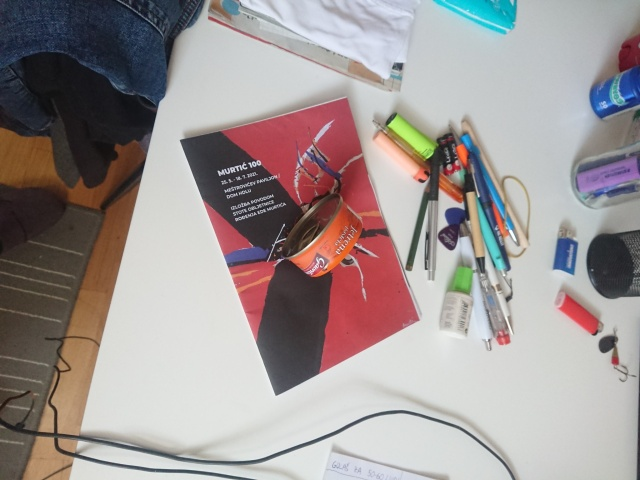Gavrilovic Pork Liver Pate 100g: (278, 190, 365, 280)
